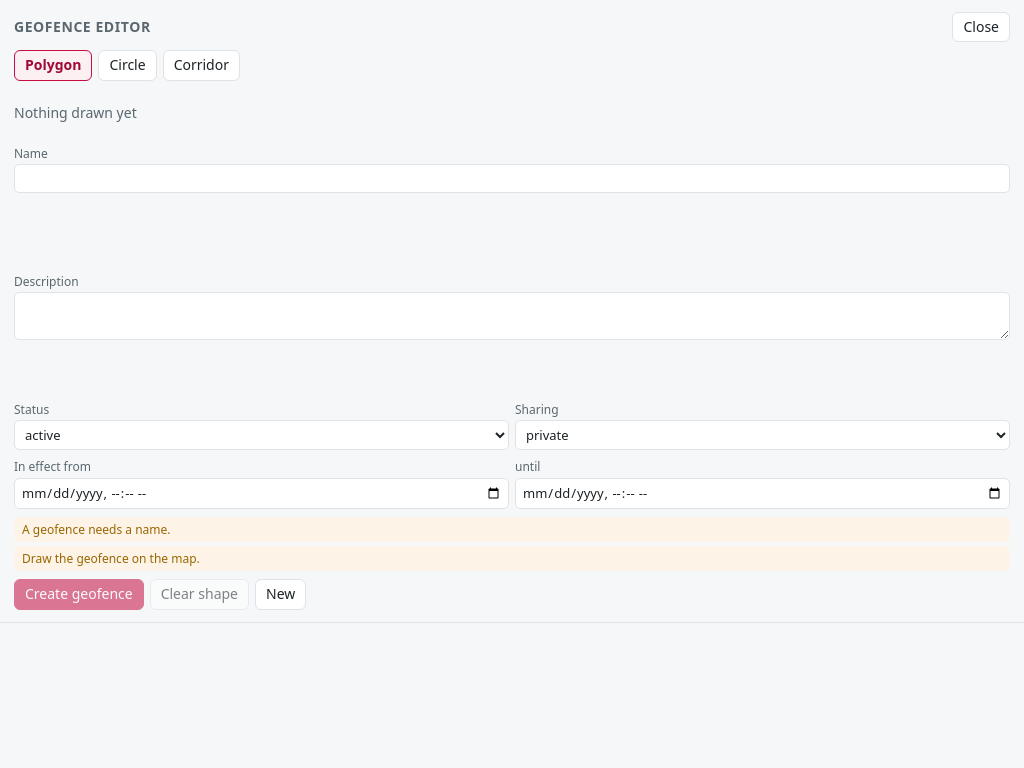
GeofenceEditor › keeps the shape when Terra Draw removes the handles of a deselected shape
Click the button "Polygon": (53, 65) [14,50,92,81]
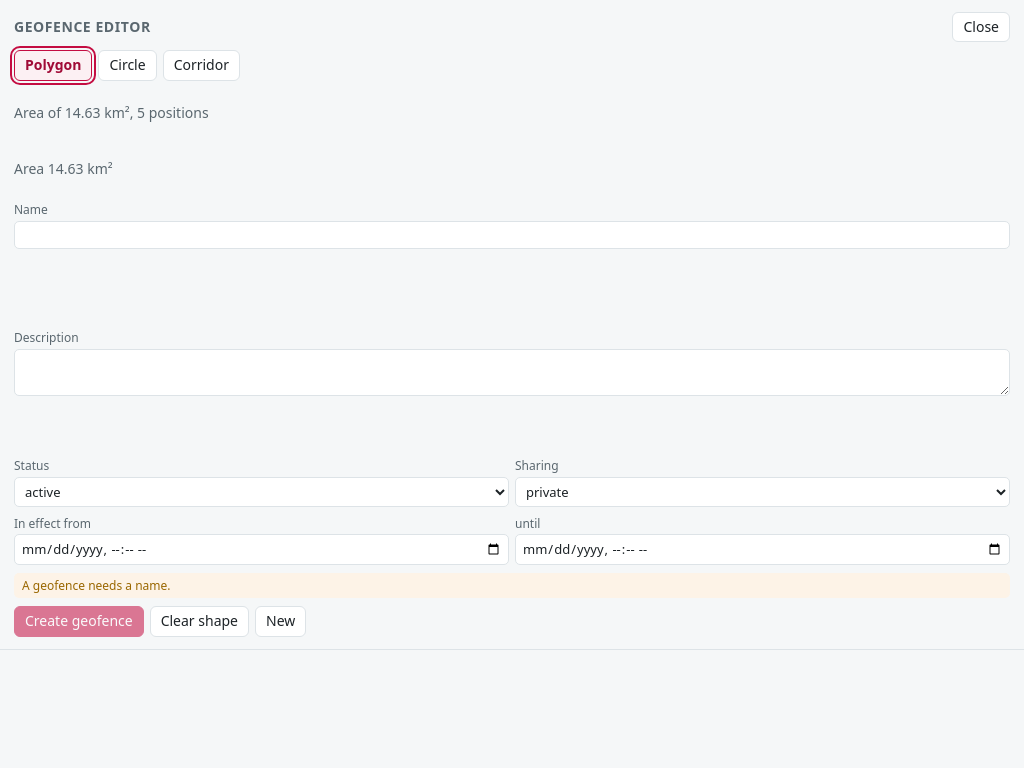
In the field labelled "Name": (512, 235) [14,221,1010,249], type "Tank bund"
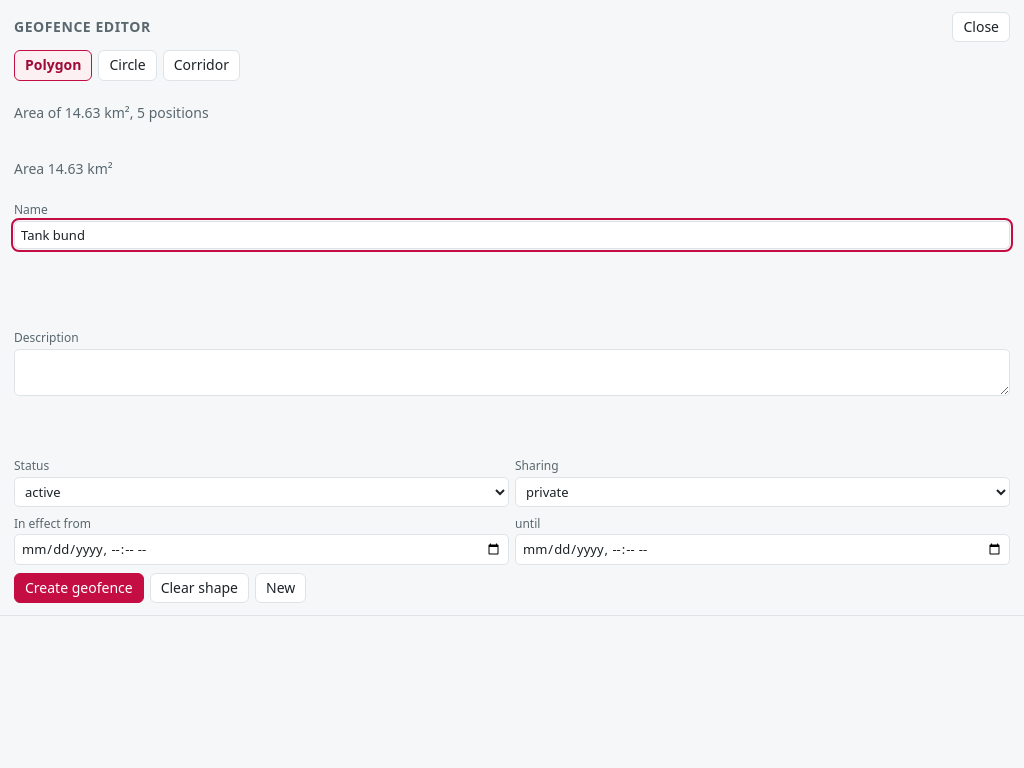
Check: the list item "Draw the geofence on the map." is not shown
Check: the button "Create geofence" is enabled, box [14,573,144,603]
